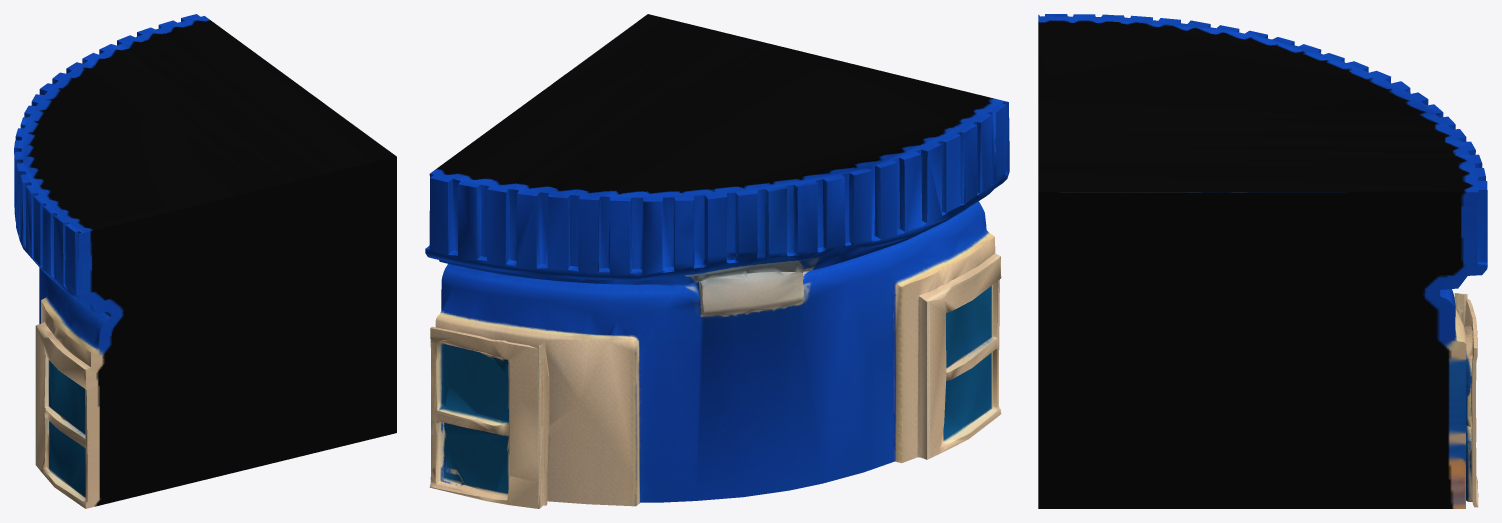
File: 7-upper-walls-back-left.fbx
3 views of the same model, side by side, from view 1: azimuth 30°, elevation 25°; view 2: azimuth 150°, elevation 25°; view 3: azimuth 270°, elevation 25° (orthographic). The views are drawn at different scales.
Parts seen in each view (by area): view 1: upper-walls-back-left; view 2: upper-walls-back-left; view 3: upper-walls-back-left.
Boxes of the visible parts, x1=… form: upper-walls-back-left: x1=14, y1=14, x2=396, y2=508; upper-walls-back-left: x1=425, y1=14, x2=1009, y2=508; upper-walls-back-left: x1=1038, y1=14, x2=1487, y2=508.
Bounding box in the file's own units: 4639 × 3843 × 4941.
Materials: 1 (1 with a texture image).
